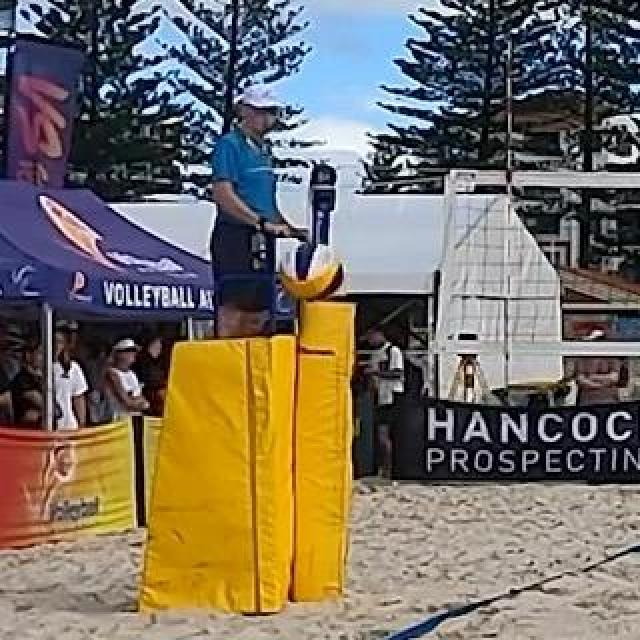volleyball: (280, 241, 344, 301)
